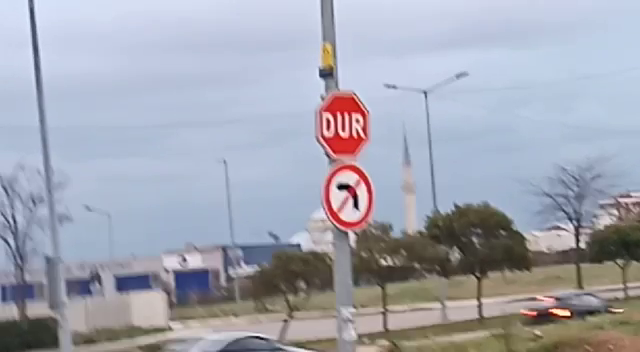no_left: (317, 162, 379, 236)
stop: (310, 89, 373, 165)
